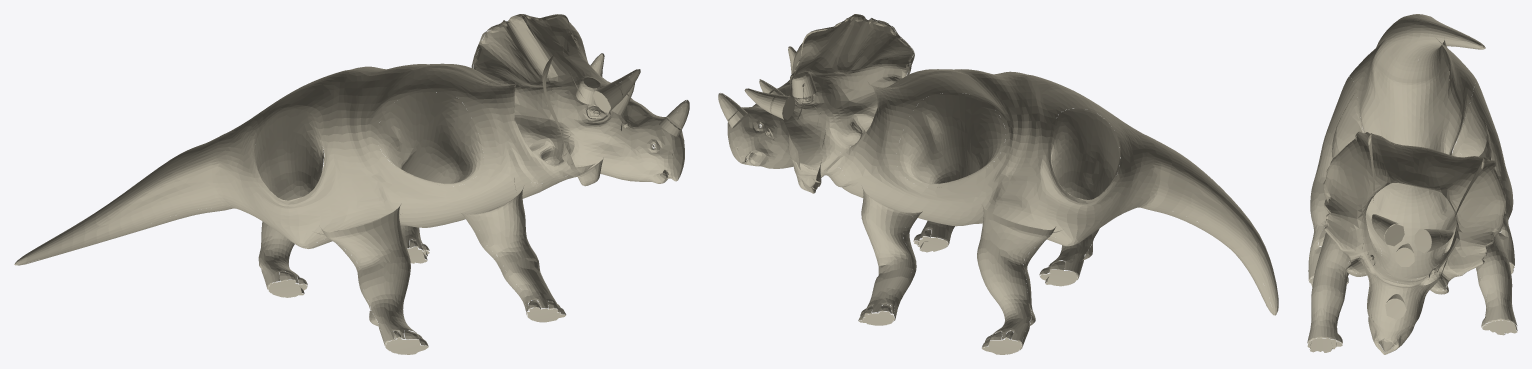
File: avaceratops.glb
3 views of the same model, side by side, from view 1: azimuth 30°, elevation 25°; view 2: azimuth 150°, elevation 25°; view 3: azimuth 270°, elevation 25° (orthographic). The views are drawn at different scales.
Visible parts, largest first — view 1: world; view 2: world; view 3: world.
Part boxes in pixels (bbox=[...]): world: bbox=[14, 14, 689, 354]; world: bbox=[718, 14, 1278, 354]; world: bbox=[1307, 14, 1517, 354].
Size of the model in its own units: 10 by 3.75 by 3.06.
